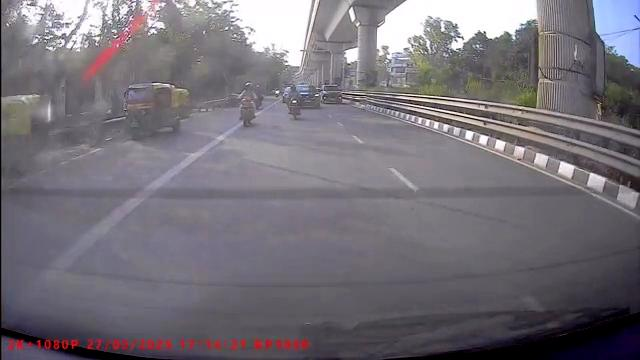motorcycle_with_helmet: (236, 81, 260, 128)
